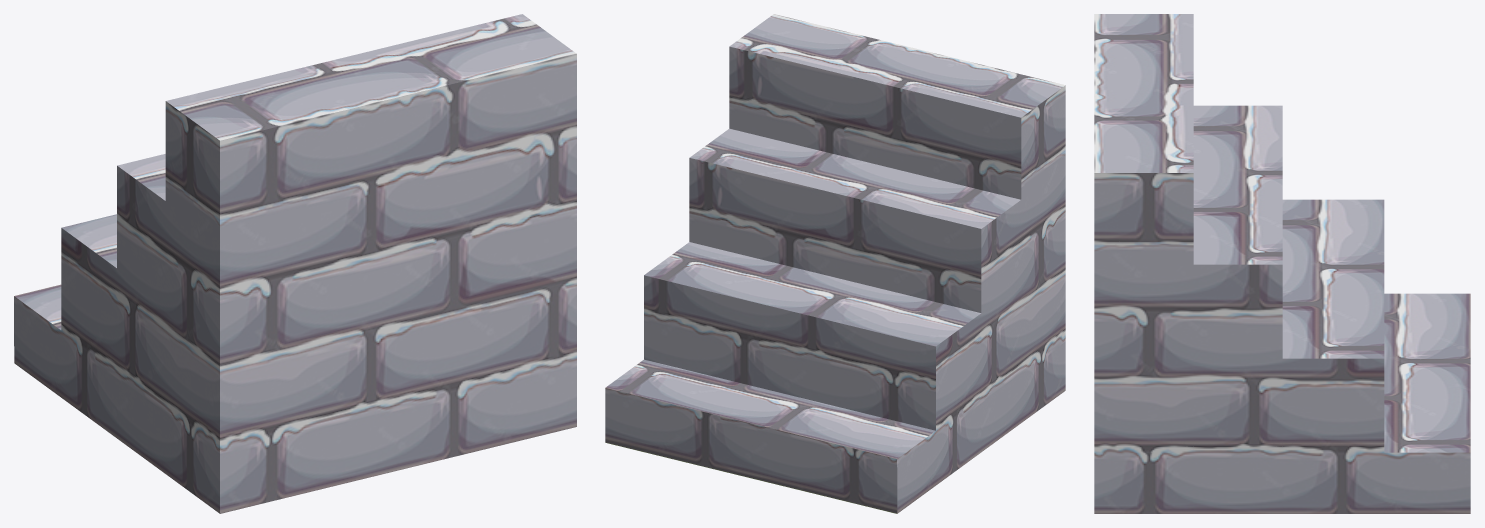
File: POL0510002.fbx
The picture shows the model from 3 angles, left to right: view 1: azimuth 30°, elevation 25°; view 2: azimuth 150°, elevation 25°; view 3: azimuth 270°, elevation 25°; orthographic projection. The views are drawn at different scales.
Parts seen in each view (by area): view 1: smPOL0510002; view 2: smPOL0510002; view 3: smPOL0510002.
Boxes of the visible parts, <box> form: smPOL0510002: <box>14,14,576,513</box>; smPOL0510002: <box>605,14,1065,513</box>; smPOL0510002: <box>1094,14,1470,513</box>.
Size of the model in its own units: 161 by 161 by 161.
Materials: 1 (1 with a texture image).
